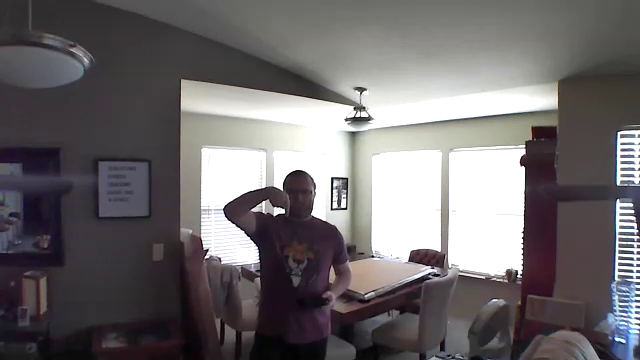down: (266, 182, 292, 221)
